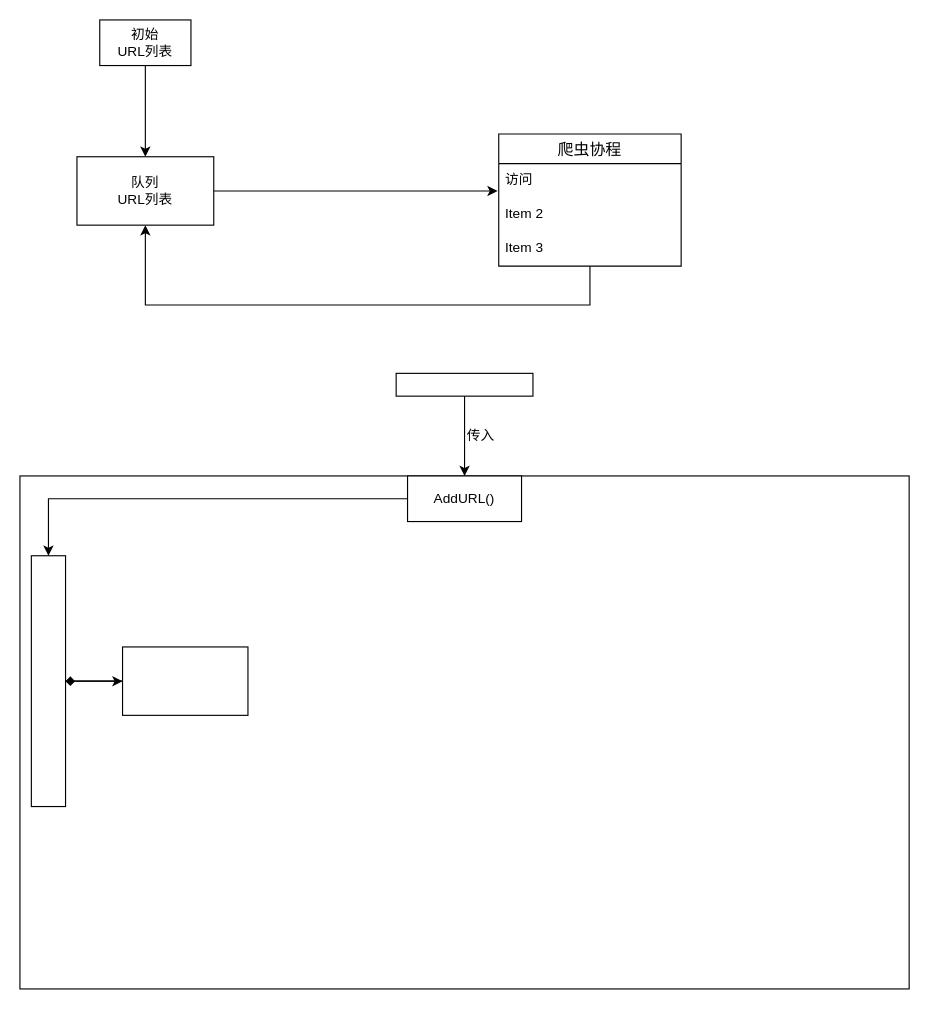
This 929x1009 diagram has some shape labels left out. The shapes that lost their labels are listed below. From the top down, each one's box as (x1, y1, x2, y2) in pixels, then its label:
(395, 372, 533, 396): one URL
(121, 646, 248, 715): 分发URL服务
